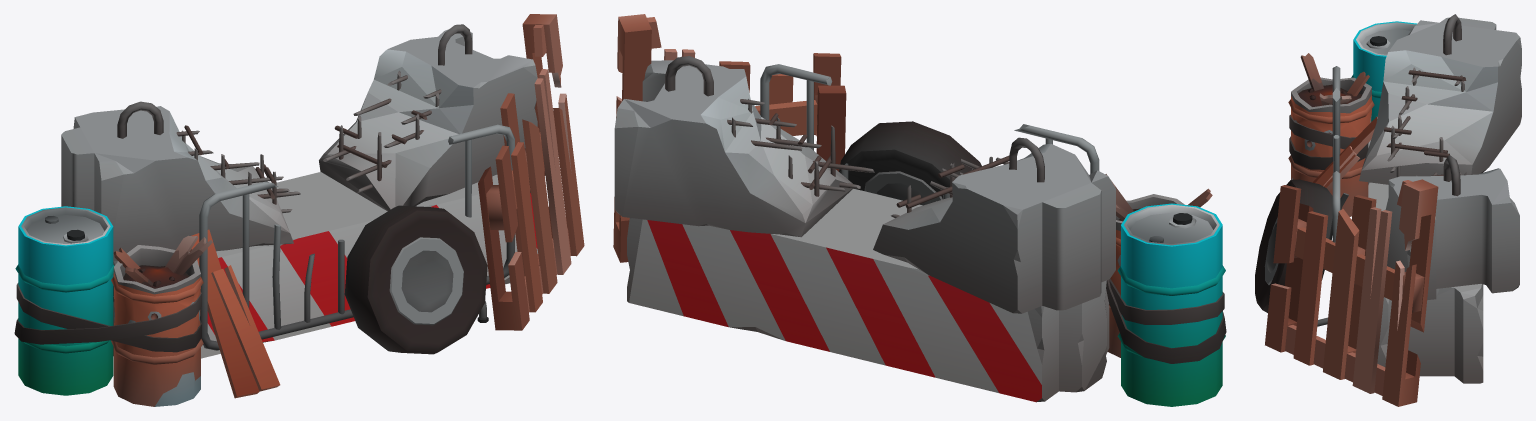
Rendered from Concrete_Fence.fbx.
The picture shows the model from 3 angles, left to right: view 1: azimuth 30°, elevation 25°; view 2: azimuth 150°, elevation 25°; view 3: azimuth 270°, elevation 25°; orthographic projection. The views are drawn at different scales.
Visible parts, largest first — view 1: Concrete_Fence; view 2: Concrete_Fence; view 3: Concrete_Fence.
Part boxes in pixels (box(x1,y1,x2,y2)): Concrete_Fence: box(14, 14, 584, 406); Concrete_Fence: box(613, 14, 1226, 406); Concrete_Fence: box(1255, 14, 1521, 406).
Size of the model in its own units: 355 by 158 by 141.
